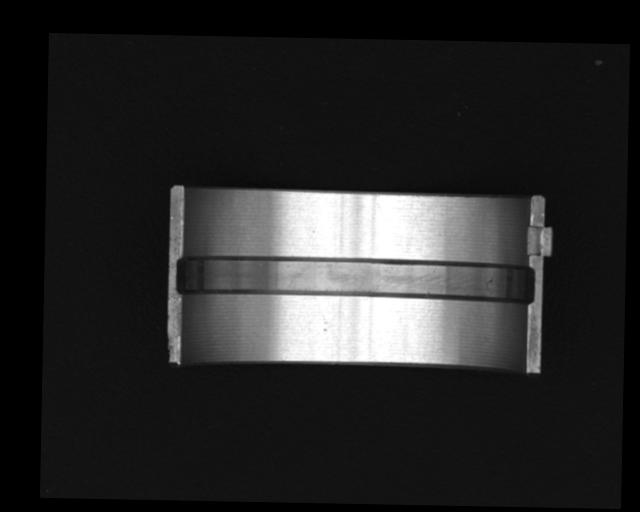gap: (173, 255, 538, 304)
